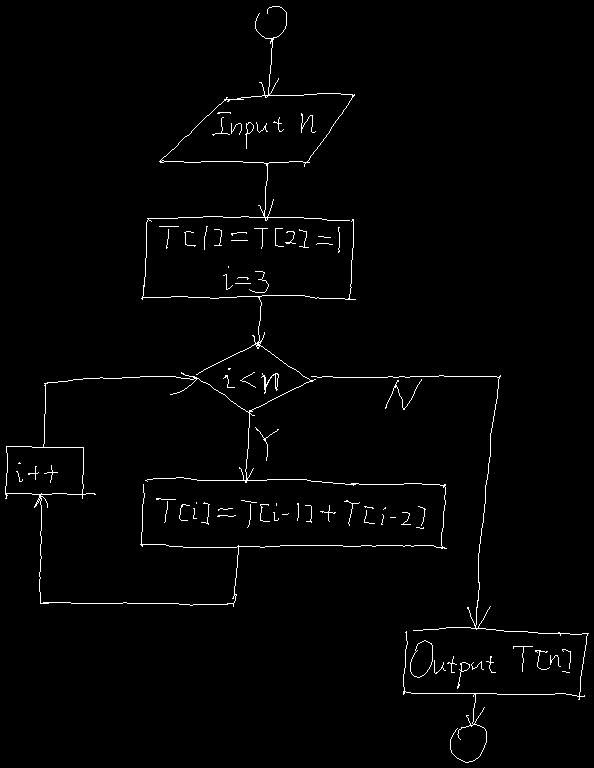arrow: (311, 375, 500, 629), (34, 493, 238, 606), (42, 372, 197, 447), (259, 37, 278, 97), (239, 412, 253, 482), (258, 164, 273, 220), (252, 296, 264, 348), (466, 693, 484, 726)
connection: (450, 724, 486, 762), (255, 6, 286, 38)
data: (159, 93, 354, 166)
decision: (193, 341, 315, 415)
process: (140, 477, 446, 548), (141, 216, 355, 299), (403, 627, 588, 699), (5, 446, 95, 498)
text: (159, 226, 339, 292), (156, 498, 425, 528), (410, 640, 570, 688), (212, 112, 315, 148), (223, 368, 278, 393), (385, 379, 421, 409), (16, 462, 57, 482), (255, 427, 278, 460)
